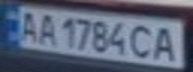1: (54, 15, 75, 48)
4: (106, 19, 130, 56)
7: (72, 16, 93, 51)
8: (90, 18, 112, 54)
A: (148, 24, 184, 63), (15, 8, 42, 43), (33, 11, 60, 45)
C: (127, 22, 157, 60)
